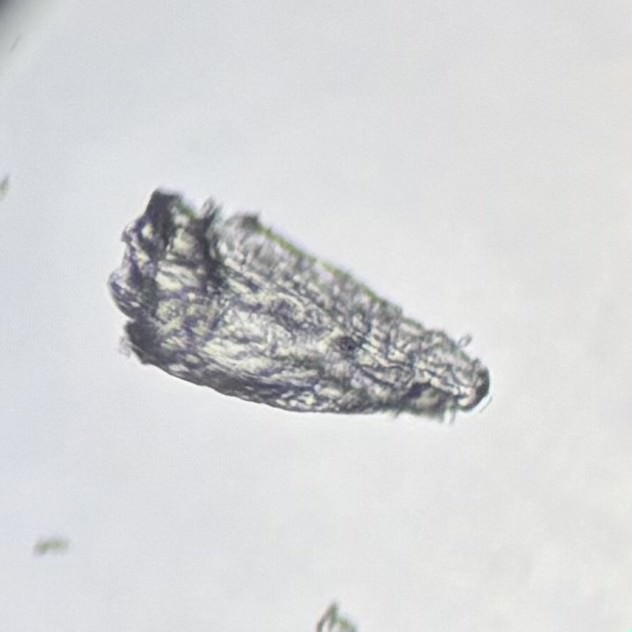microplastic: (104, 185, 497, 420)
